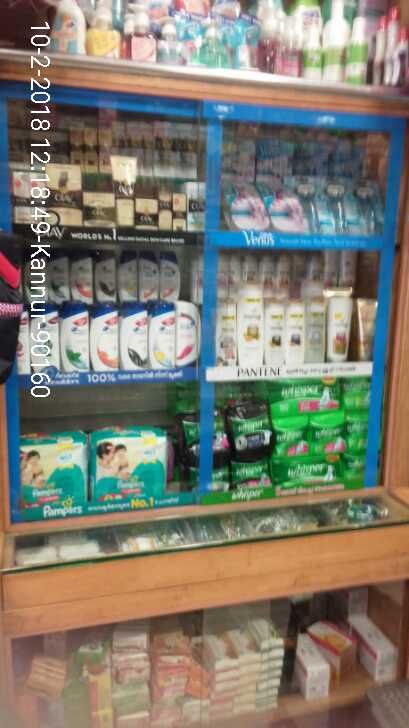venus: (292, 177, 325, 231), (353, 180, 384, 236), (325, 177, 353, 236)
